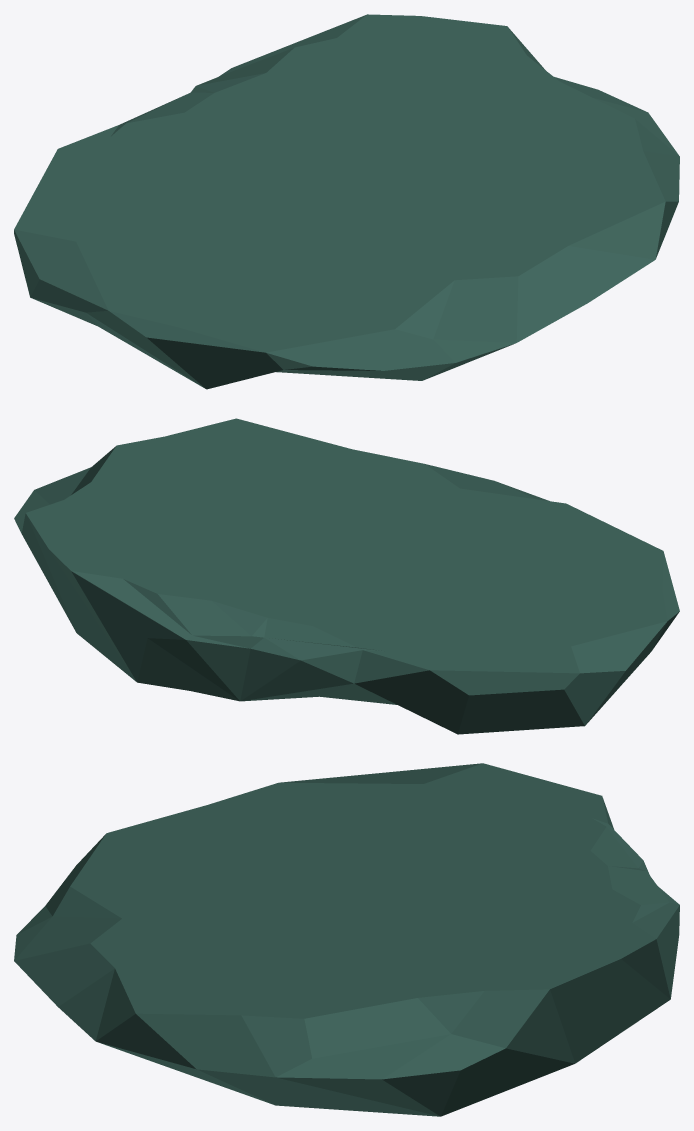
File: Stone_23.fbx
The picture shows the model from 3 angles, top to bottom: view 1: azimuth 30°, elevation 25°; view 2: azimuth 150°, elevation 25°; view 3: azimuth 270°, elevation 25°; orthographic projection. The views are drawn at different scales.
Visible parts, largest first — view 1: Stone 23; view 2: Stone 23; view 3: Stone 23.
Boxes of the visible parts, x1,y1,x2,y2 form: Stone 23: (14,14,679,389); Stone 23: (14,418,679,734); Stone 23: (14,763,679,1116).
Bounding box in the file's own units: 5713 × 1347 × 4892.
